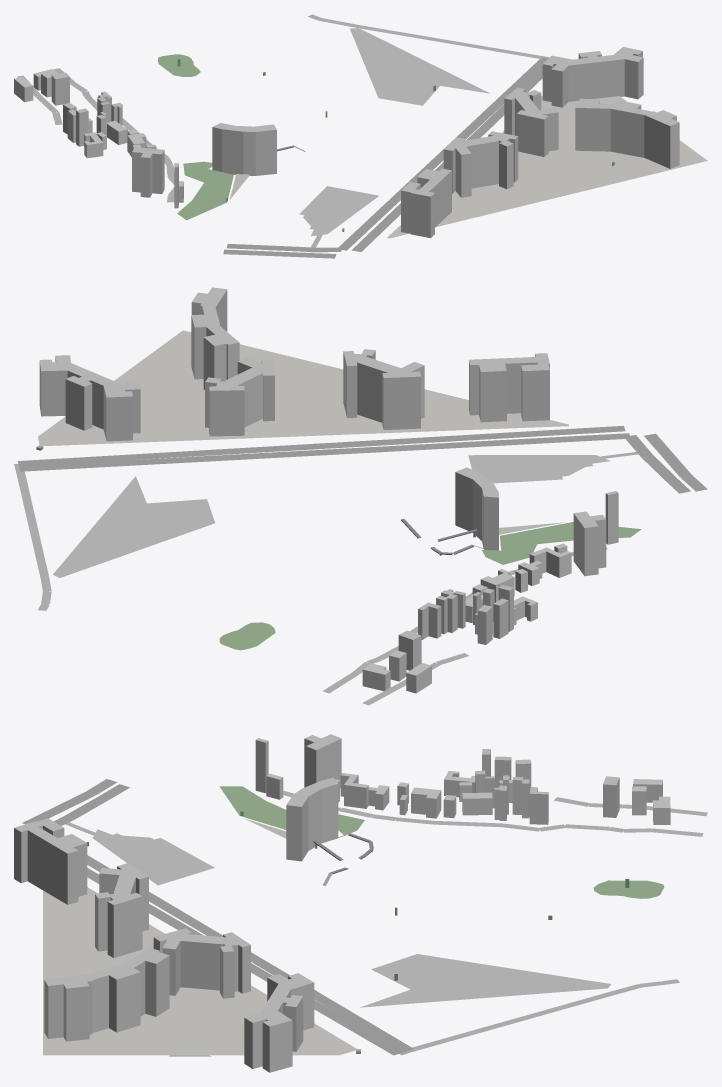
3 views of the same model, one above another, from view 1: azimuth 30°, elevation 25°; view 2: azimuth 150°, elevation 25°; view 3: azimuth 270°, elevation 25° (orthographic). The views are drawn at different scales.
Bounding box in the file's own units: 540 × 56.32 × 540.
